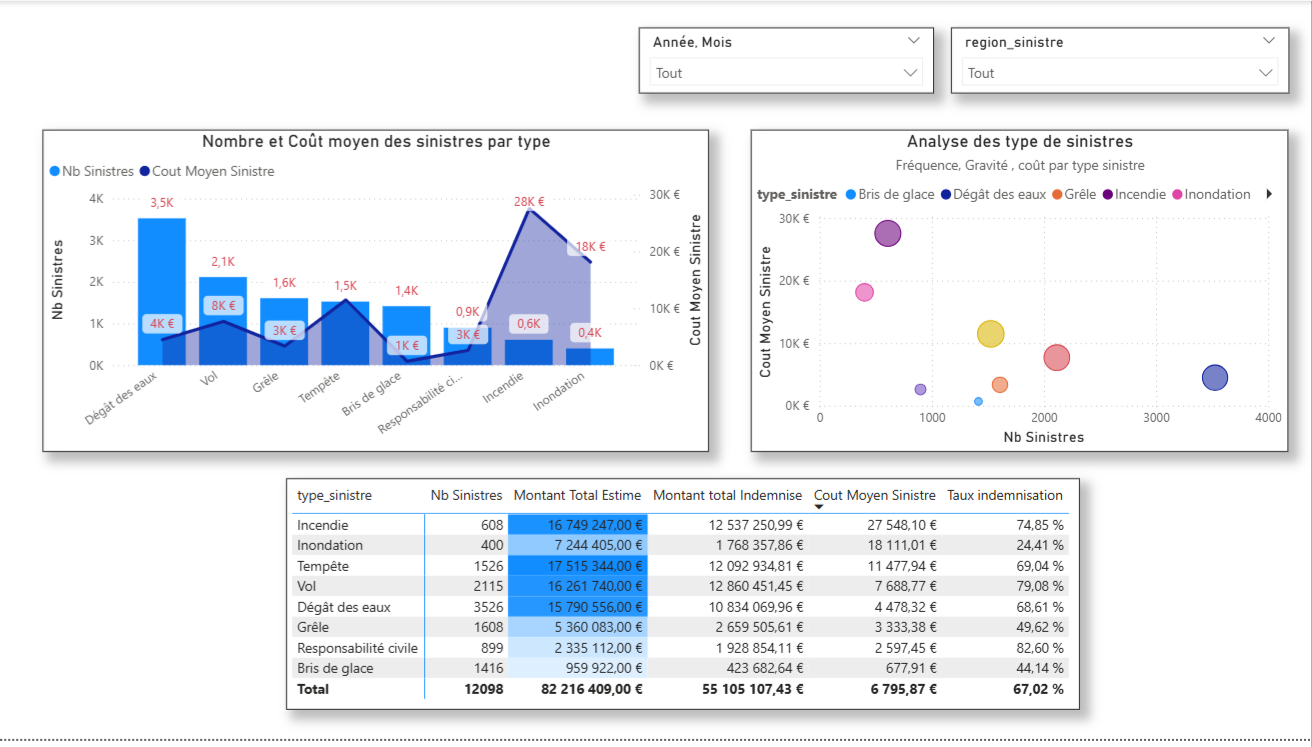

This screenshot's page, from the dashboard's own definition file:
{"tool":"powerbi","page":{"name":"Typologie des sinistres","canvas":[1280,720],"ordinal":1},"visuals":[{"type":"lineClusteredColumnComboChart","title":"Nombre et  Coût moyen des sinistres par type","fields":{"Category":["public fact_sinistre_meteo.type_sinistre"],"Y":["_Mesures.Nb Sinistres"],"Y2":["_Mesures.Cout Moyen Sinistre"]},"box":[42,126,650,314],"z":0},{"type":"scatterChart","title":"Analyse des type de sinistres","fields":{"X":["_Mesures.Nb Sinistres"],"Y":["_Mesures.Cout Moyen Sinistre"],"Size":["_Mesures.Montant Total Estime"],"Series":["public fact_sinistre_meteo.type_sinistre"]},"box":[734,126,524,314],"z":1000},{"type":"pivotTable","fields":{"Rows":["public fact_sinistre_meteo.type_sinistre"],"Values":["_Mesures.Nb Sinistres","_Mesures.Montant Total Estime","_Mesures.Montant total Indemnise","_Mesures.Cout Moyen Sinistre","_Mesures.Taux indemnisation"]},"box":[280,466,774,226],"z":2000},{"type":"slicer","fields":{"Values":["public fact_sinistre_meteo.region_sinistre"]},"box":[928,26,330,64],"z":3000},{"type":"slicer","title":"Nombre de sinistre par date survenance","fields":{"Values":["Dim_Date.Date.Variation.Hiérarchie de dates.Année","Dim_Date.Date.Variation.Hiérarchie de dates.Mois"]},"box":[624,26,288,64],"z":3001}]}

Visuals, with their boxes in screenshot pixels (x1, y1, x2, y2), scaled from the page's 1280x720 canvas onto the 1312x747 screenshot:
"Nombre et  Coût moyen des sinistres par type" lineClusteredColumnComboChart: detection(43, 131, 709, 457)
"Analyse des type de sinistres" scatterChart: detection(752, 131, 1289, 457)
pivotTable - public fact_sinistre_meteo.type_sinistre x _Mesures.Nb Sinistres: detection(287, 483, 1080, 718)
slicer - public fact_sinistre_meteo.region_sinistre: detection(951, 27, 1289, 93)
"Nombre de sinistre par date survenance" slicer: detection(640, 27, 935, 93)
